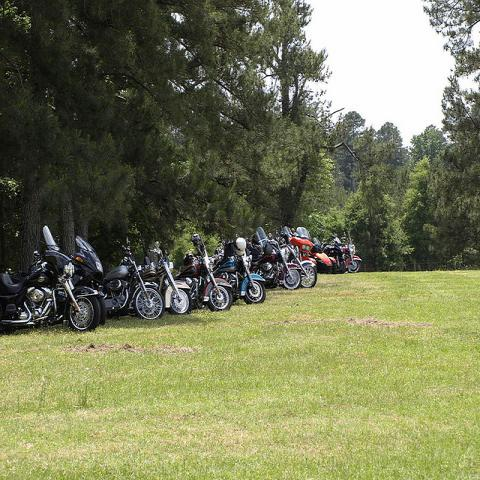motorcycle: (0, 240, 101, 337), (103, 236, 165, 322), (172, 232, 234, 312), (66, 232, 108, 320), (143, 246, 192, 316), (249, 233, 302, 290), (212, 250, 267, 304), (280, 226, 318, 290), (306, 237, 333, 274), (292, 228, 316, 264), (324, 237, 346, 274), (342, 236, 362, 273)
